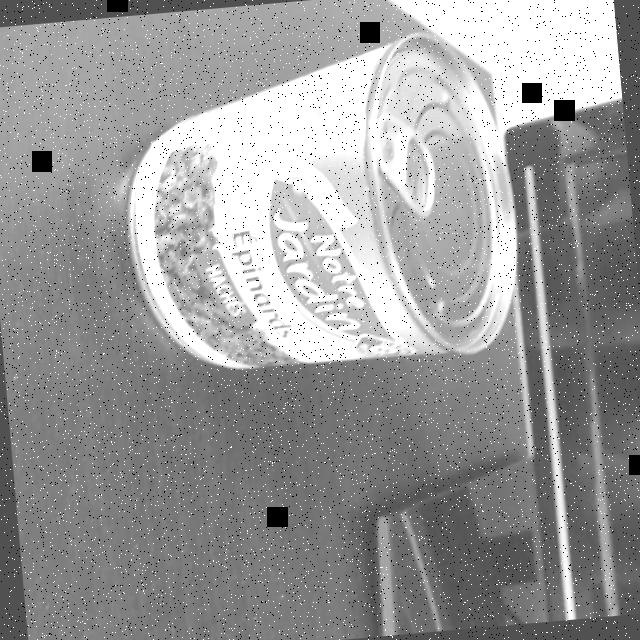can: (110, 24, 530, 384)
